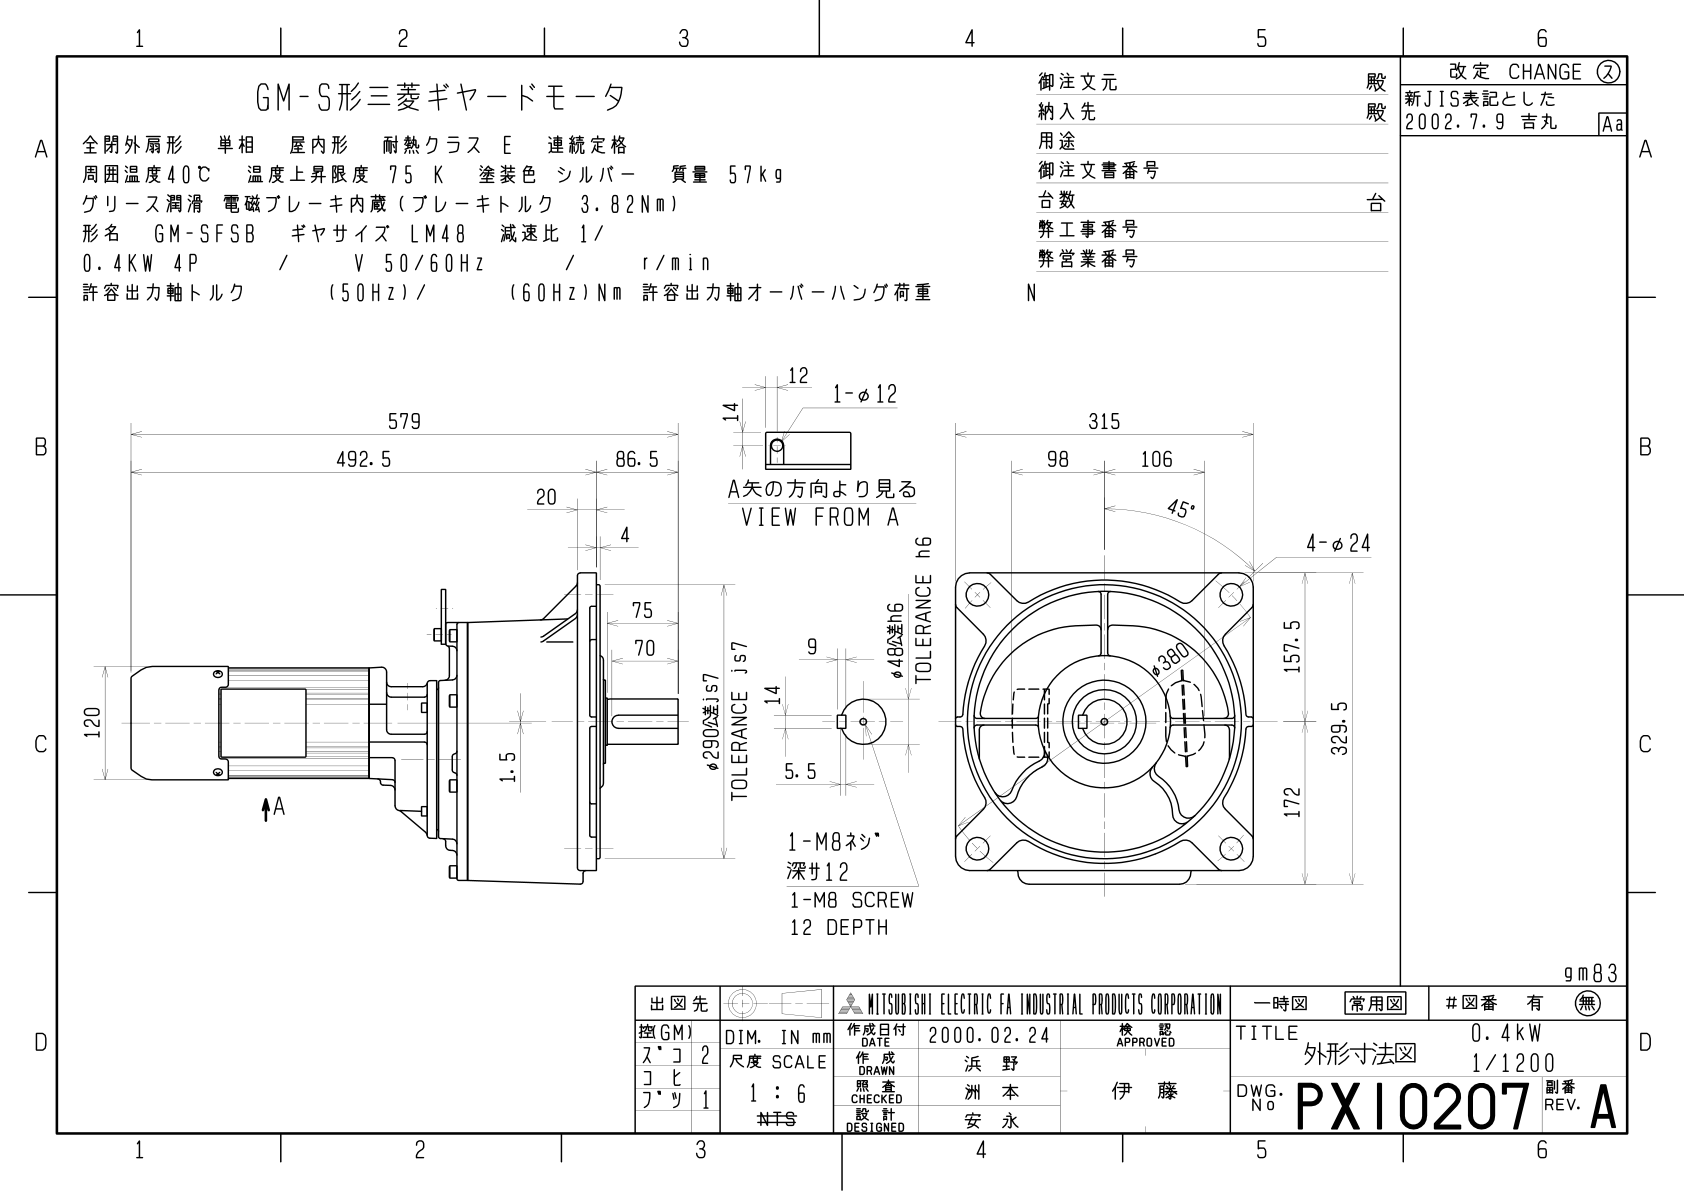GM_S_屋内＿単相_フランジ: (71, 354, 1377, 941)
